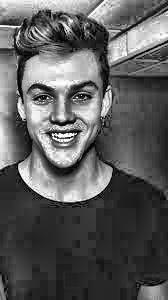happy: (16, 25, 123, 209)
